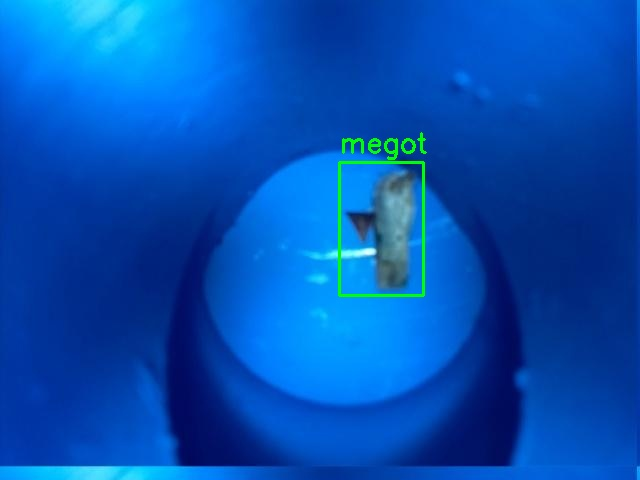megot: (339, 162, 423, 295)
